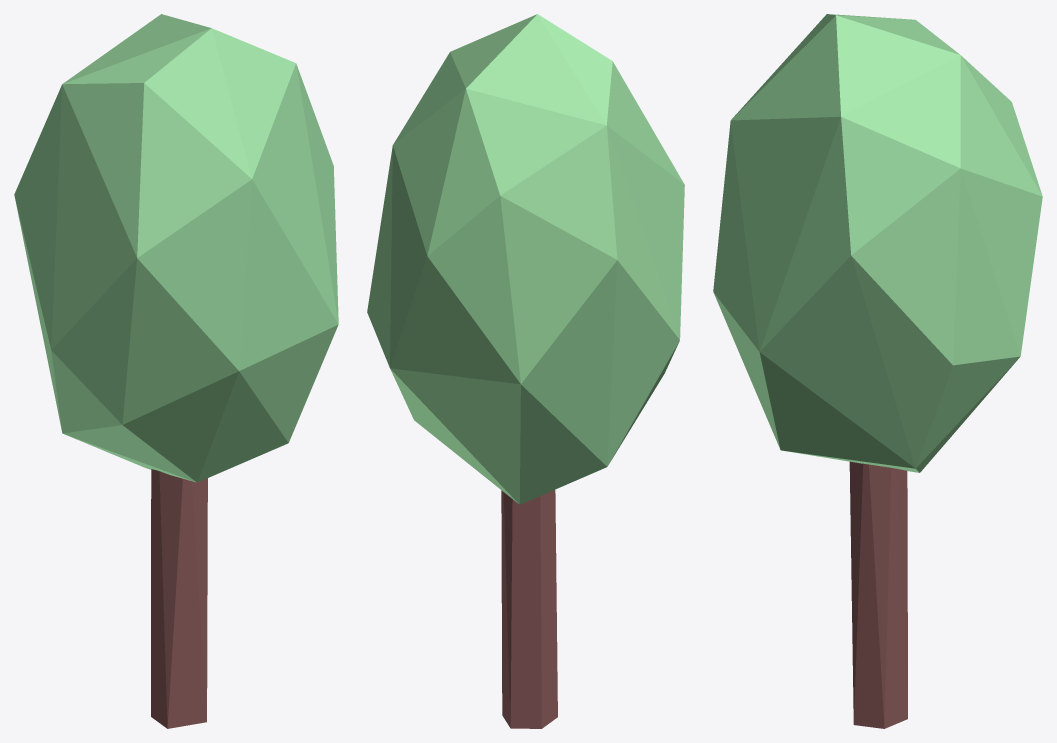
The model's file is LowPolyTree1.fbx.
3 renders of one model, left to right at view 1: azimuth 30°, elevation 25°; view 2: azimuth 150°, elevation 25°; view 3: azimuth 270°, elevation 25°, orthographic. The views are drawn at different scales.
Parts seen in each view (by area): view 1: Tree03; view 2: Tree03; view 3: Tree03.
Part boxes in pixels (x1,y1,x2,y2): Tree03: (14,14,338,728); Tree03: (367,14,684,728); Tree03: (713,14,1042,728).
Size of the model in its own units: 167 by 396 by 167.
